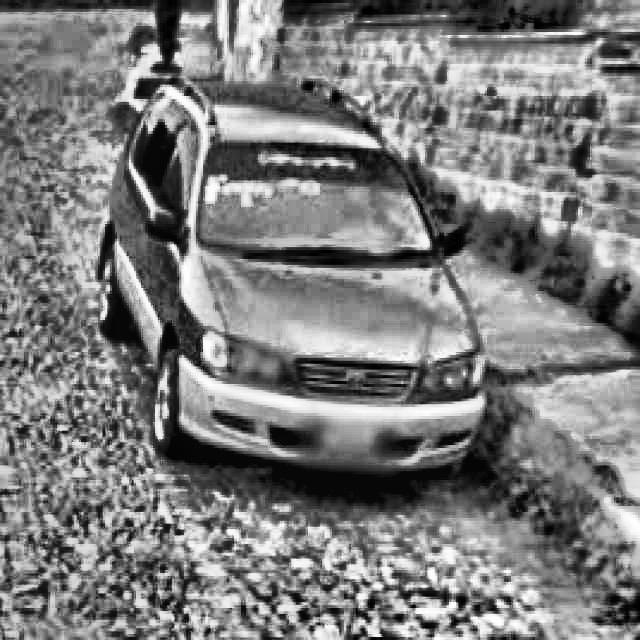carro: (101, 73, 494, 490)
